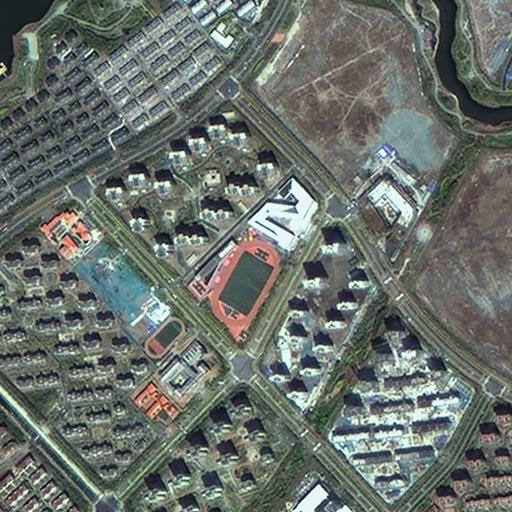school: (184, 170, 328, 350), (128, 314, 220, 427)
